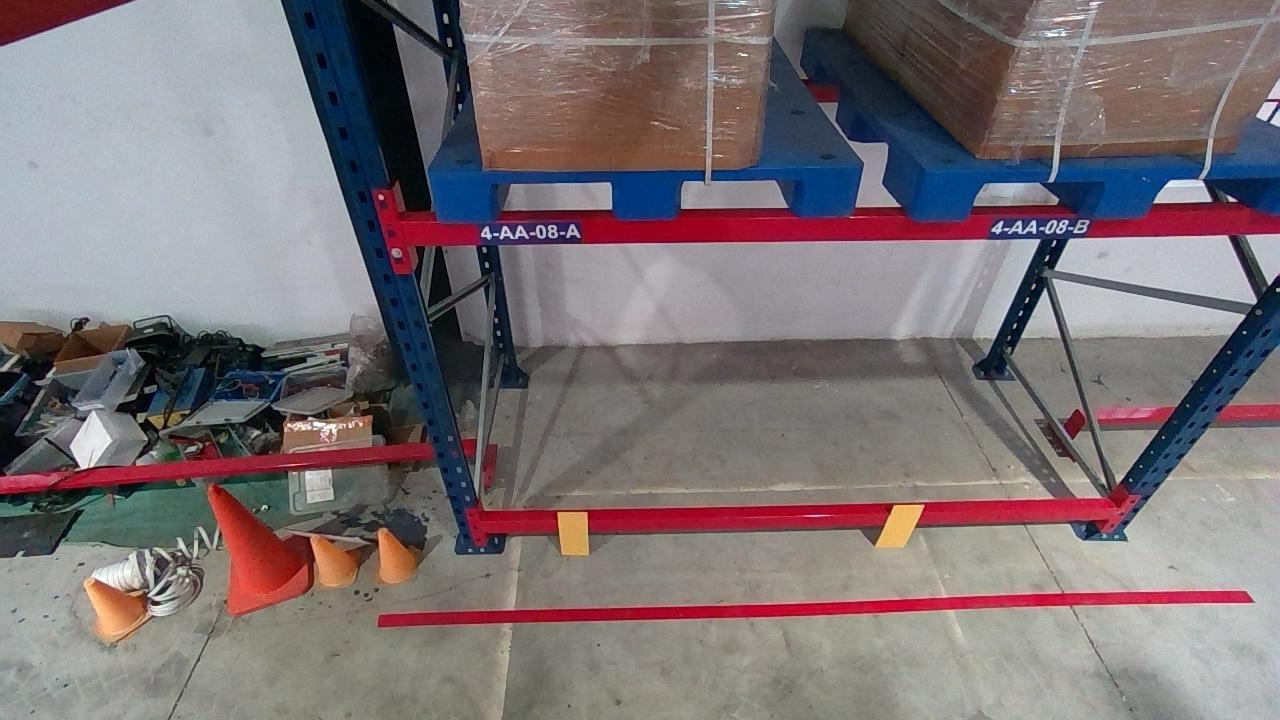h_rack: (404, 209, 1276, 242), (482, 505, 1119, 534)
orange_strip: (875, 505, 927, 547), (557, 511, 589, 554)
red_line: (375, 588, 1252, 626)
small_pallet: (434, 167, 860, 217), (911, 165, 1279, 217)
